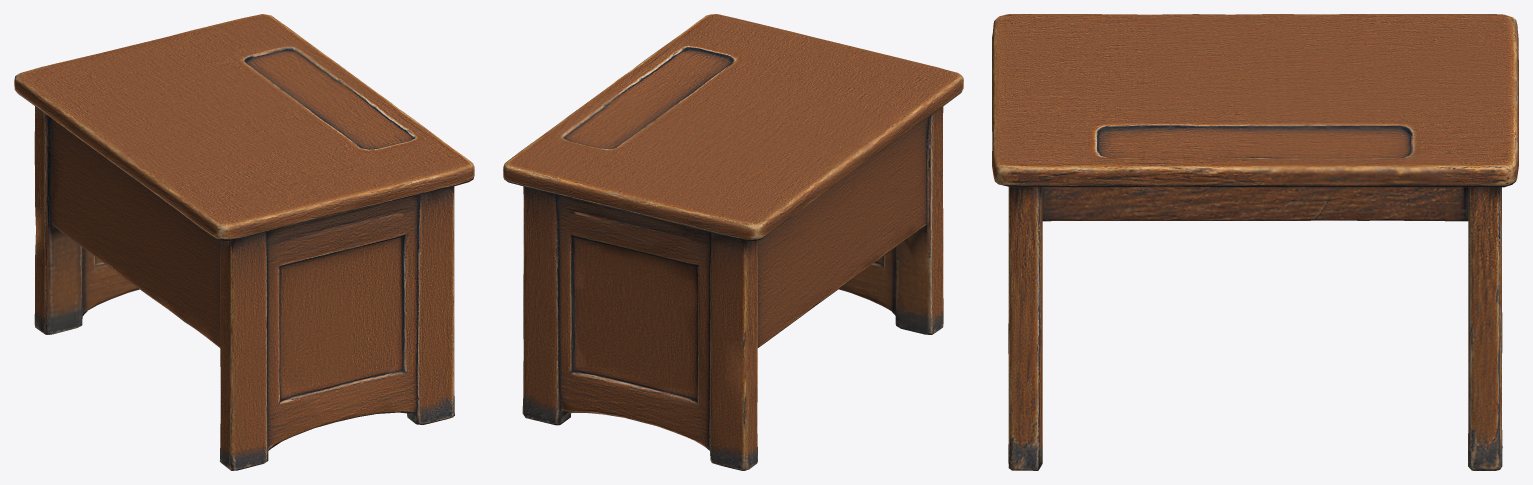
File: PupilDesk.fbx
The picture shows the model from 3 angles, left to right: view 1: azimuth 30°, elevation 25°; view 2: azimuth 150°, elevation 25°; view 3: azimuth 270°, elevation 25°; orthographic projection. The views are drawn at different scales.
Parts seen in each view (by area): view 1: tripo_node_04c4e290-9d2c-45a9-99a7-e1be4d4abfcb; view 2: tripo_node_04c4e290-9d2c-45a9-99a7-e1be4d4abfcb; view 3: tripo_node_04c4e290-9d2c-45a9-99a7-e1be4d4abfcb.
Part boxes in pixels (bbox=[...]): tripo_node_04c4e290-9d2c-45a9-99a7-e1be4d4abfcb: bbox=[14, 14, 474, 470]; tripo_node_04c4e290-9d2c-45a9-99a7-e1be4d4abfcb: bbox=[503, 14, 963, 470]; tripo_node_04c4e290-9d2c-45a9-99a7-e1be4d4abfcb: bbox=[992, 14, 1518, 470].
Size of the model in its own units: 70.55 by 65.99 by 100.
1 material, 1 textured.
